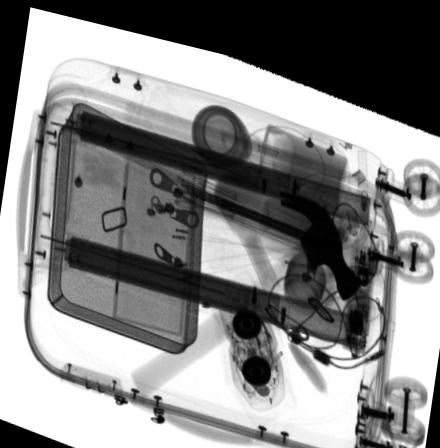Hammer: (129, 176, 359, 394)
